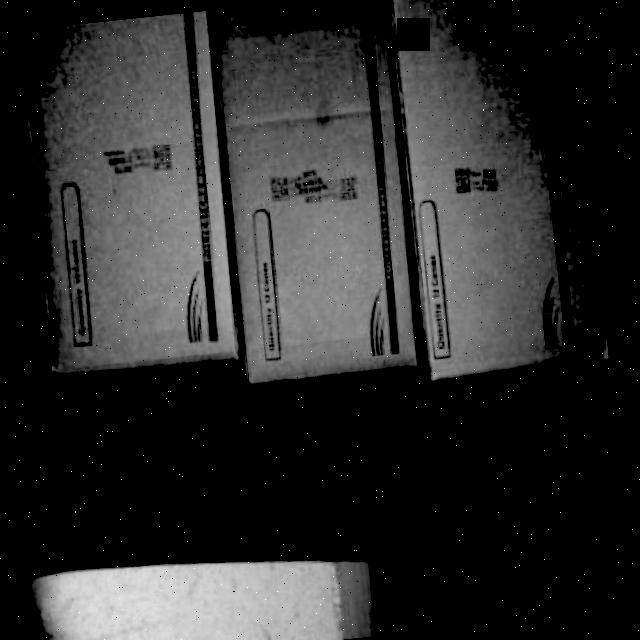box: (13, 9, 245, 374), (390, 0, 612, 378), (213, 0, 427, 377)
